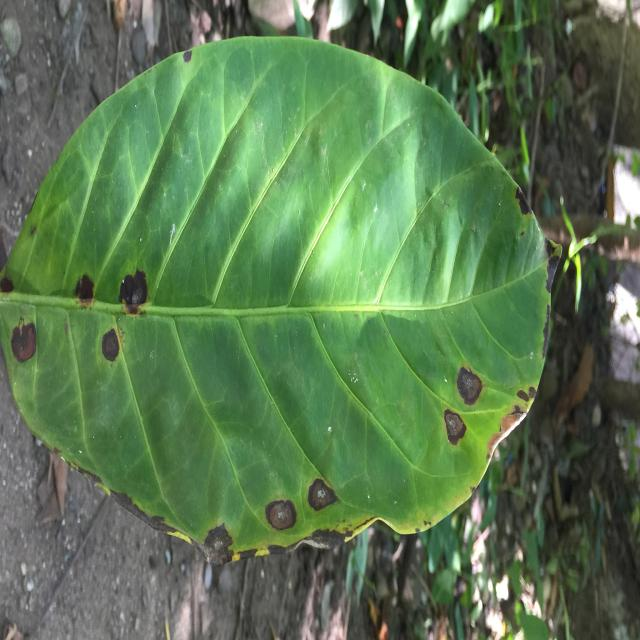Enfermedad-Mancha-de-hierro: (5, 38, 552, 556)
